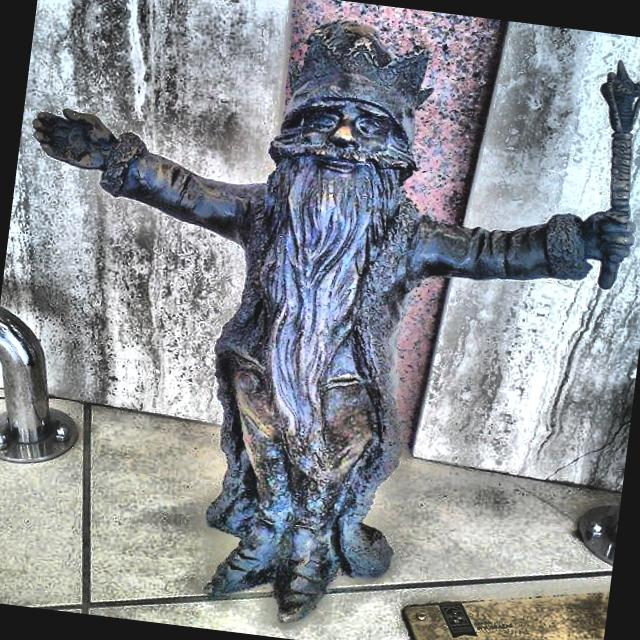Serdecznis: (31, 20, 640, 630)
